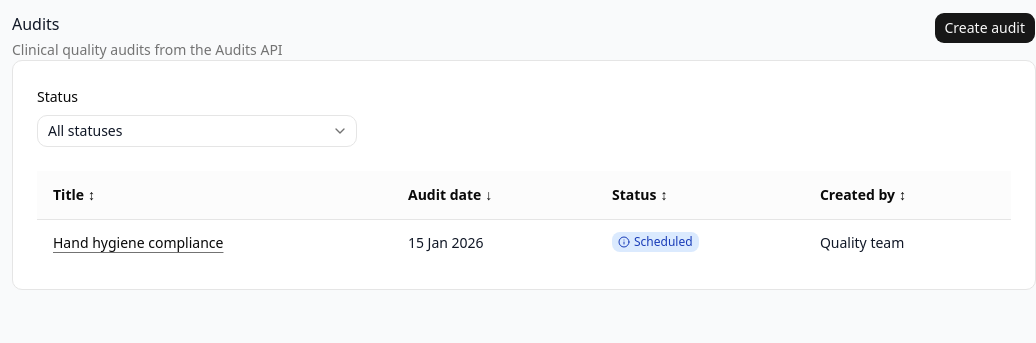
Scenario: AuditsView › clears inline error alert and keeps DataTable when refetch succeeds after a refetch error
Expected: the element named "Audits list, scrollable" is shown, [37,171,1011,265]
Click the dropdown labelled "status" at (85, 130), box [37,115,357,147]
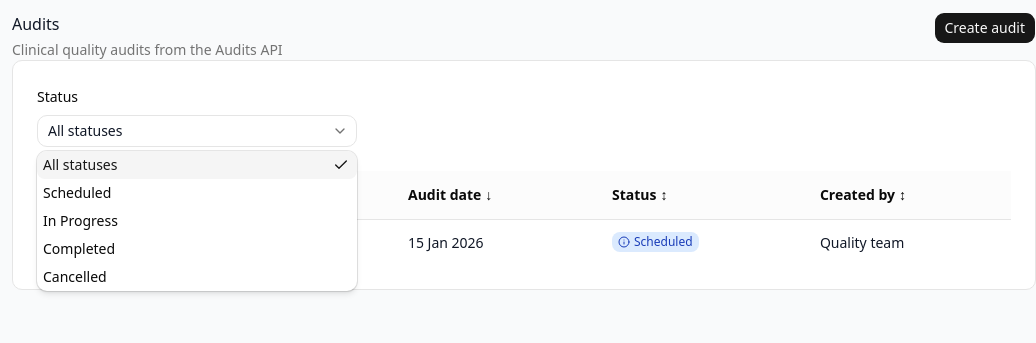
Click the option "Completed" at (79, 248), box [43,239,115,258]
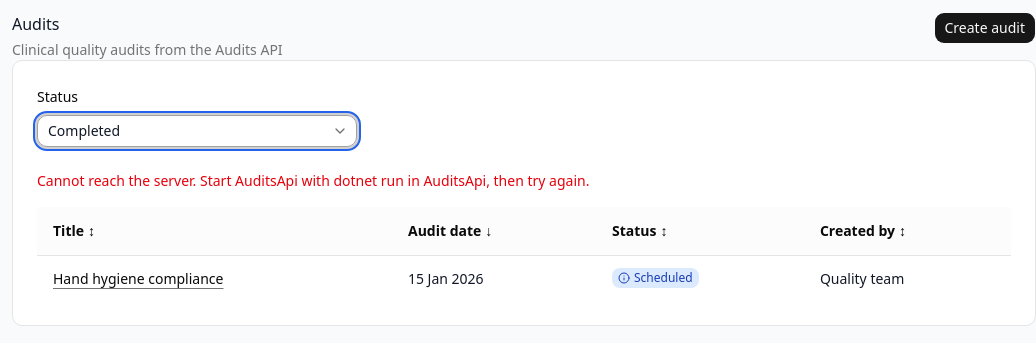
Expected: the message is shown, [37,171,589,190]
Click the dropdown named "Status" at (84, 130), box [37,115,357,147]
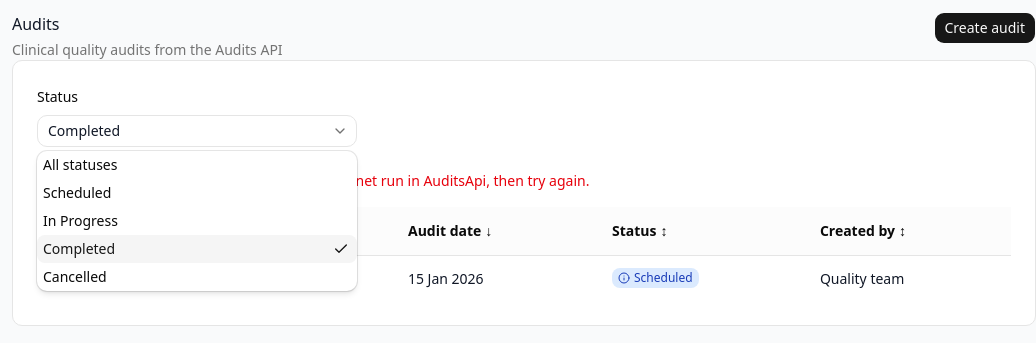
Click the option "All statuses" at (80, 164), box [43,155,118,174]
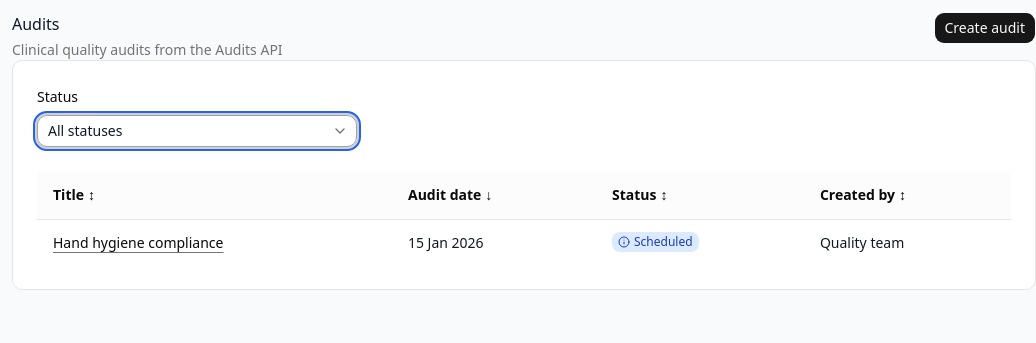
Expected: the element named "Audits list, scrollable" is shown, [37,171,1011,265]
Expected: the message "Cannot reach the server. Start AuditsApi with dotnet run in AuditsApi, then try" is gone
